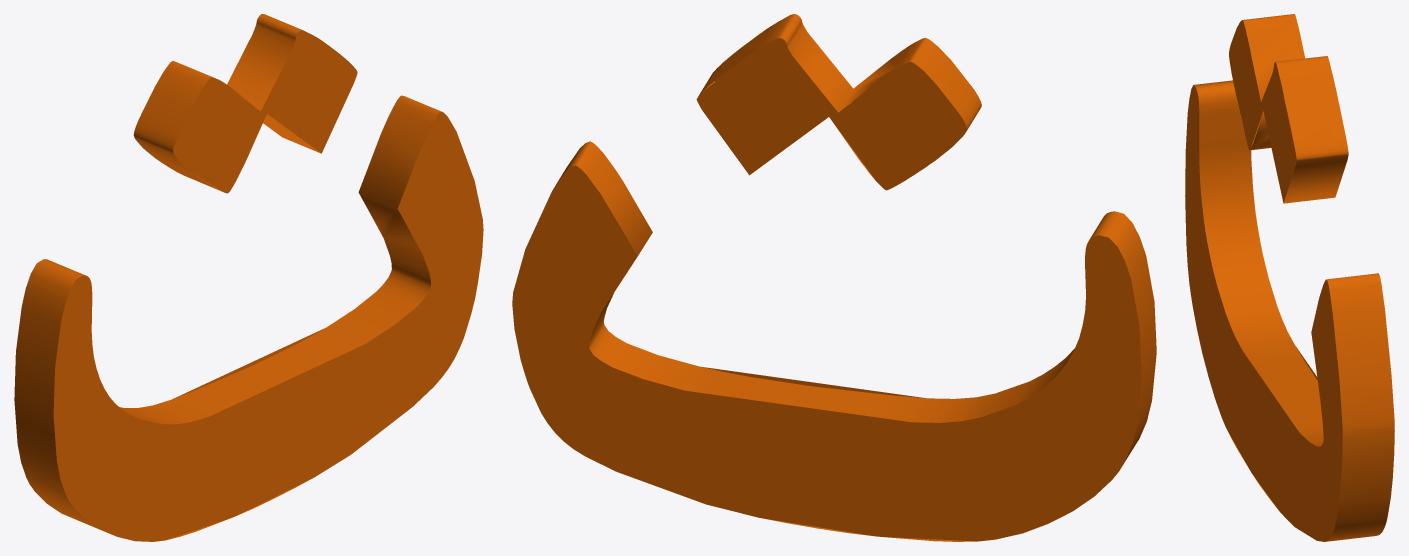
File: TAAAAA.fbx
3 views of the same model, side by side, from view 1: azimuth 30°, elevation 25°; view 2: azimuth 150°, elevation 25°; view 3: azimuth 270°, elevation 25° (orthographic). The views are drawn at different scales.
Visible parts, largest first — view 1: ta; view 2: ta; view 3: ta.
Boxes of the visible parts, box(x1,y1,x2,y2) form: ta: box(14, 14, 483, 541); ta: box(512, 14, 1156, 541); ta: box(1185, 14, 1394, 541).
Size of the model in its own units: 255 by 214 by 90.63.
